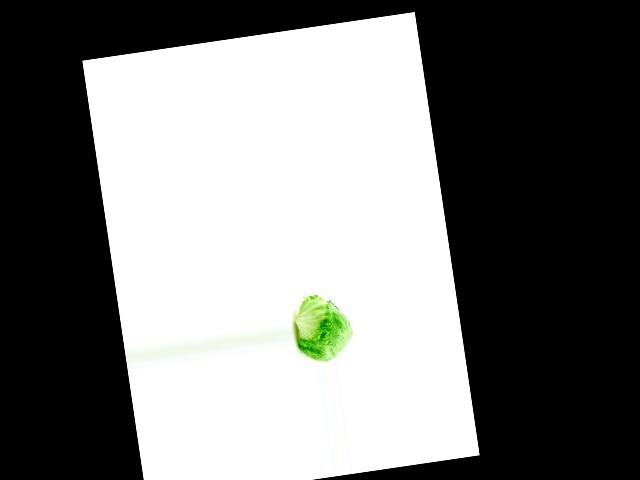lettuce: (291, 290, 358, 367)
